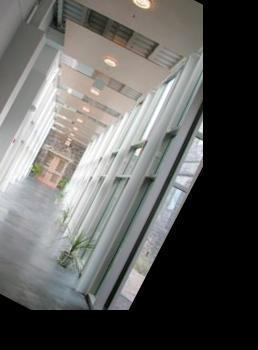Matera: (49, 225, 96, 277), (56, 206, 75, 228)
